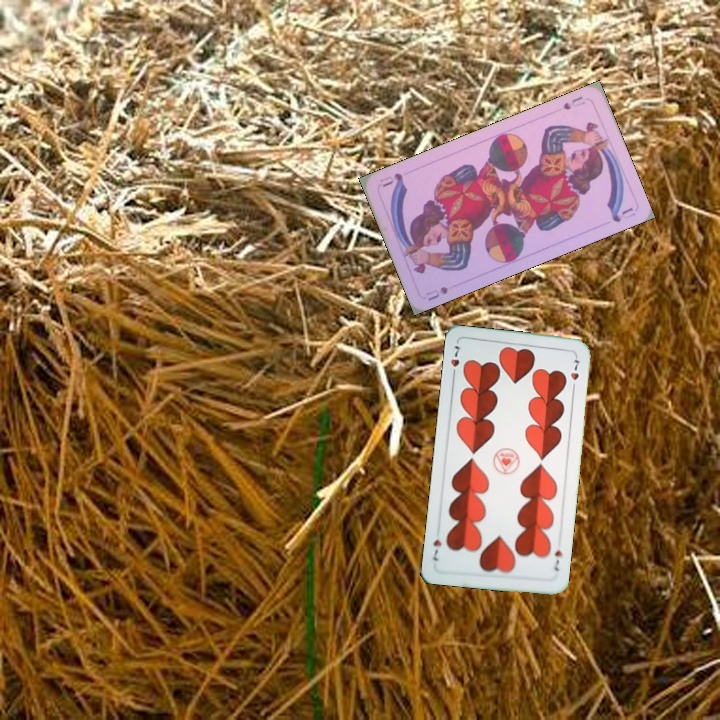H7: (447, 341, 462, 380), (550, 546, 565, 574)
SU: (422, 282, 451, 303), (559, 92, 587, 112)
